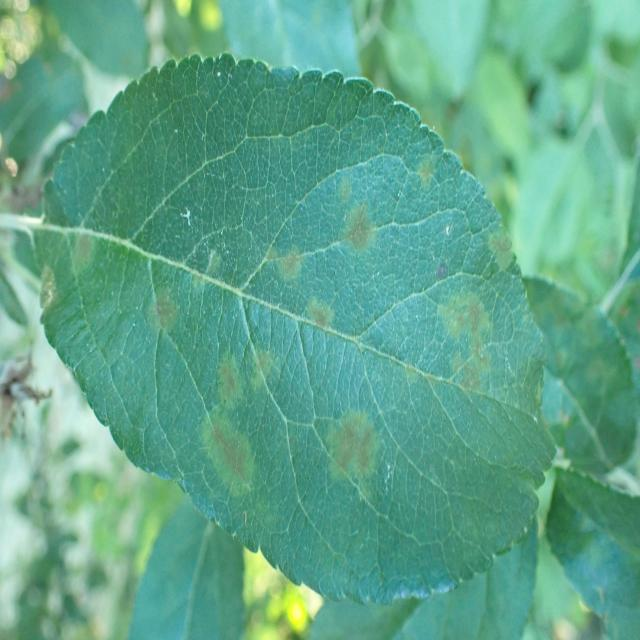scab: (55, 137, 528, 558), (533, 253, 629, 458)
